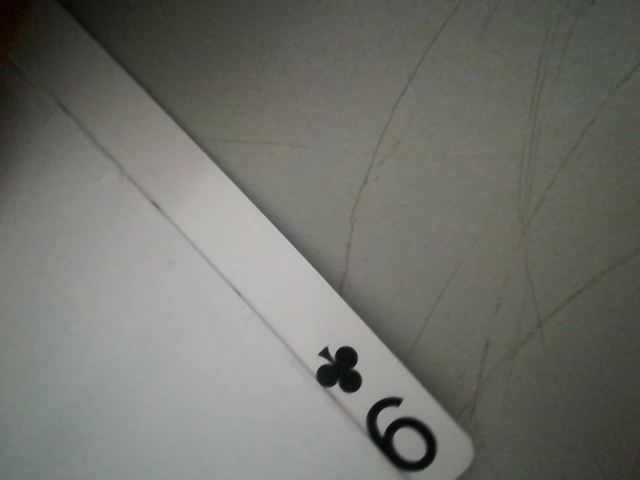mh 9: (309, 336, 460, 475)
